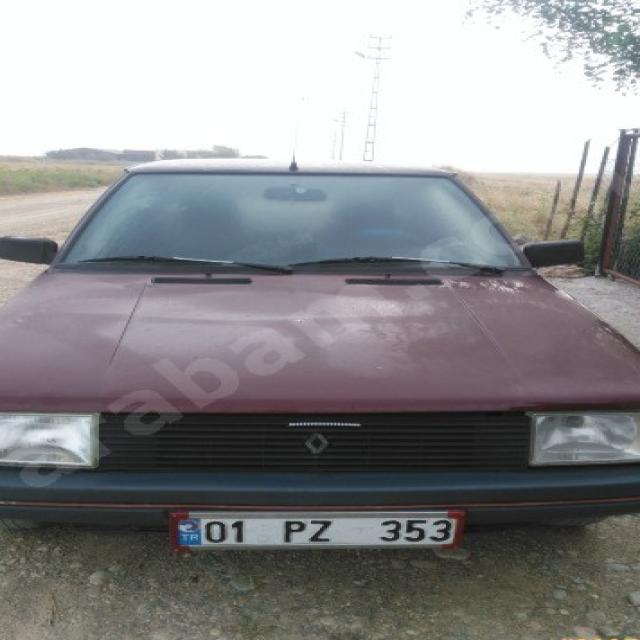license_plate: (175, 516, 456, 545)
